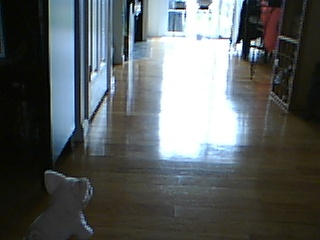piggy: (26, 169, 96, 240)
